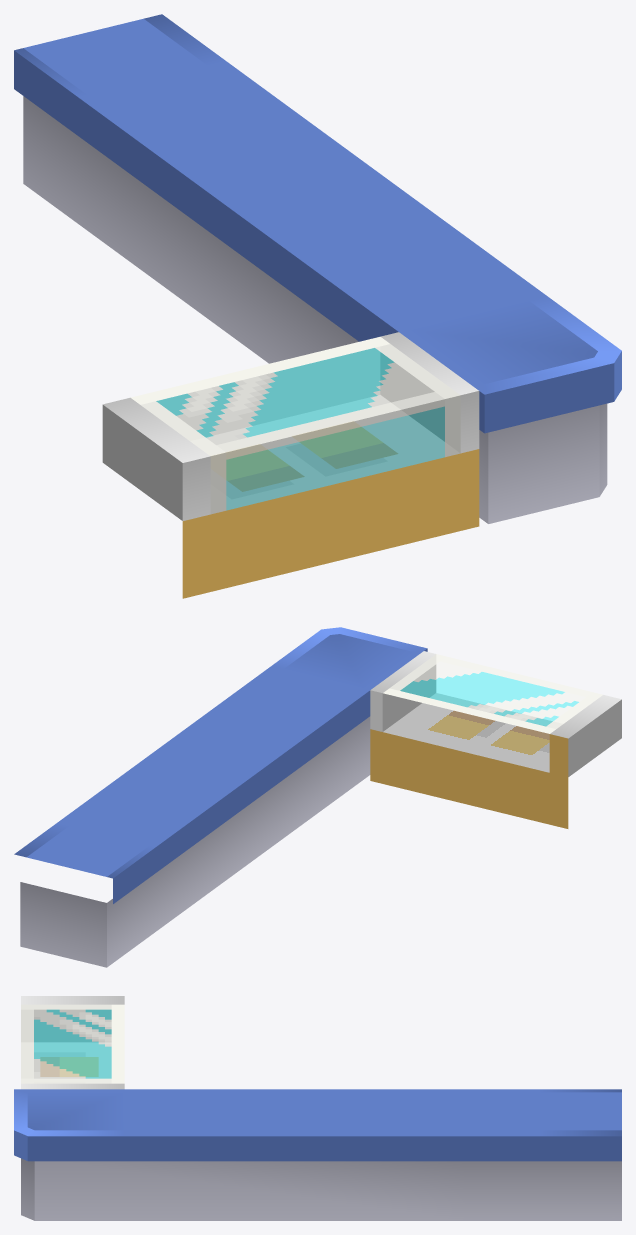
3 renders of one model, top to bottom at view 1: azimuth 30°, elevation 25°; view 2: azimuth 150°, elevation 25°; view 3: azimuth 270°, elevation 25°, orthographic. The views are drawn at different scales.
Size of the model in its own units: 3 by 0.875 by 5.5.
Materials: 6 (6 with a texture image).
